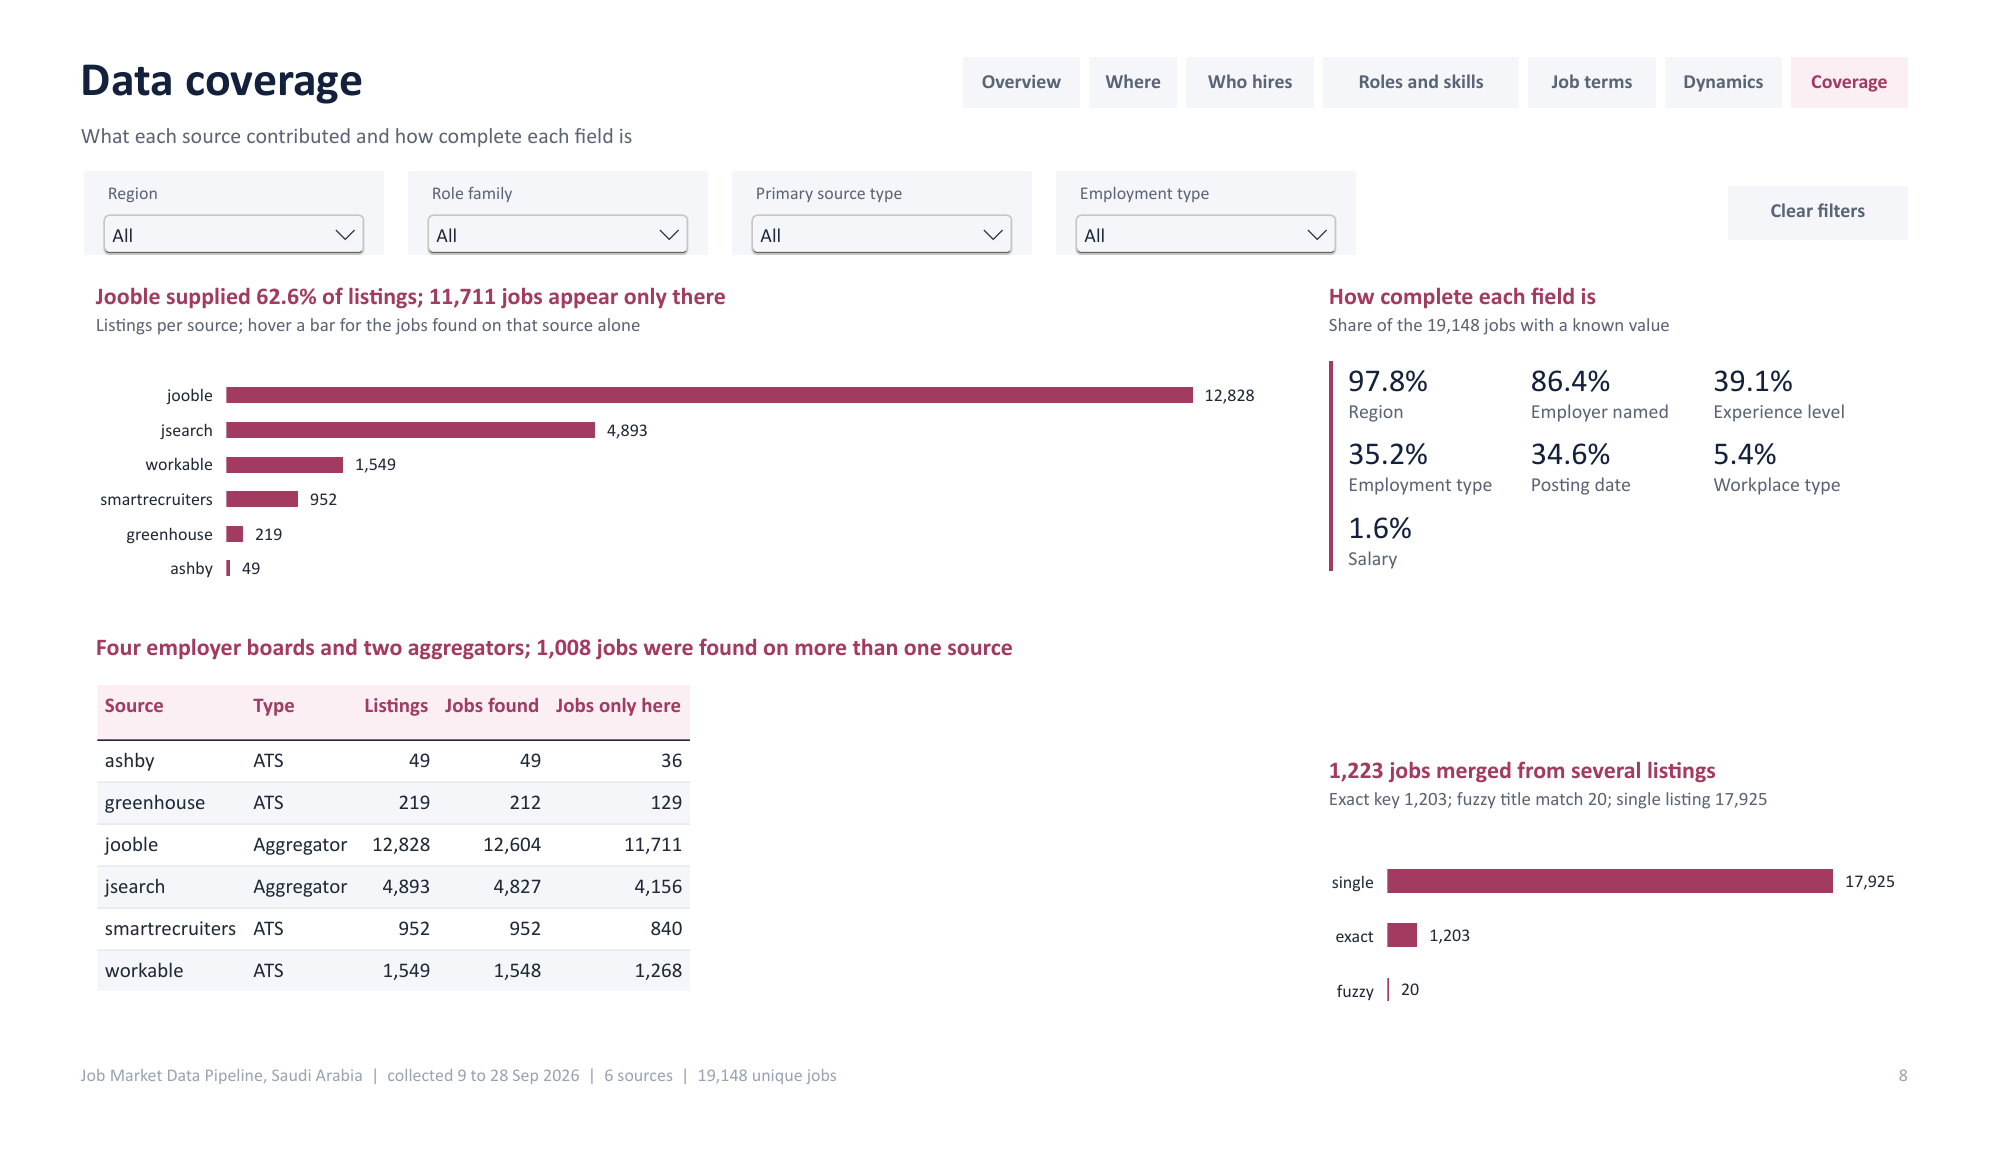

What the dashboard file says about the page in this screenshot:
{"tool":"powerbi","page":{"name":"Coverage","canvas":[1280,720],"ordinal":7},"visuals":[{"type":"textbox","box":[22,2,660,60],"z":1000},{"type":"textbox","box":[22,50,760,36],"z":1100},{"type":"textbox","box":[618,14,78,34],"z":1200},{"type":"actionButton","box":[618,14,78,34],"z":1300},{"type":"textbox","box":[702,14,59,34],"z":1400},{"type":"actionButton","box":[702,14,59,34],"z":1500},{"type":"textbox","box":[767,14,85,34],"z":1600},{"type":"actionButton","box":[767,14,85,34],"z":1700},{"type":"textbox","box":[858,14,131,34],"z":1800},{"type":"actionButton","box":[858,14,131,34],"z":1900},{"type":"textbox","box":[995,14,85,34],"z":2000},{"type":"actionButton","box":[995,14,85,34],"z":2100},{"type":"textbox","box":[1086,14,78,34],"z":2200},{"type":"actionButton","box":[1086,14,78,34],"z":2300},{"type":"textbox","box":[1170,14,78,34],"z":2400},{"type":"slicer","fields":{"Values":["DIM_LOCATION.REGION"]},"box":[32,90,200,56],"z":2500},{"type":"slicer","fields":{"Values":["DIM_ROLE.ROLE_FAMILY"]},"box":[248,90,200,56],"z":2600},{"type":"slicer","fields":{"Values":["DIM_SOURCE.SOURCE_TYPE"]},"box":[464,90,200,56],"z":2700},{"type":"slicer","fields":{"Values":["DIM_JOB_ATTRIBUTES.EMPLOYMENT_TYPE"]},"box":[680,90,200,56],"z":2800},{"type":"textbox","box":[1128,100,120,36],"z":2900},{"type":"actionButton","box":[1128,100,120,36],"z":3000},{"type":"textbox","box":[22,678,940,38],"z":3100},{"type":"textbox","box":[1160,678,96,38],"z":3200},{"type":"clusteredBarChart","title":"Jooble supplied 62.6% of listings; 11,711 jobs appear only there","fields":{"Category":["DIM_SOURCE.SOURCE_NAME"],"Y":["_Measures.Listings by Source"]},"box":[32,156,806,222],"z":3300},{"type":"tableEx","title":"Four employer boards and two aggregators; 1,008 jobs were found on more than one source","fields":{"Values":["DIM_SOURCE.SOURCE_NAME","DIM_SOURCE.SOURCE_TYPE","_Measures.Listings by Source","_Measures.Jobs Found on Source","_Measures.Jobs Only on Source"]},"box":[32,390,806,278],"z":3400},{"type":"multiRowCard","title":"How complete each field is","fields":{"Values":["_Measures.Region Known %","_Measures.Company Known %","_Measures.Experience Level Known %","_Measures.Employment Type Known %","_Measures.Posting Date Known %","_Measures.Workplace Type Known %","_Measures.Salary Disclosed %"]},"box":[854,156,394,300],"z":3500},{"type":"clusteredBarChart","title":"1,223 jobs merged from several listings","fields":{"Category":["FCT_JOBS.MATCH_TIER"],"Y":["_Measures.Jobs"]},"box":[854,472,394,196],"z":3600}]}

Visuals, with their boxes in screenshot pixels (x1, y1, x2, y2), scaled from the page's 1280x720 canvas onto the 1992x1152 screenshot:
textbox: (x1=34, y1=3, x2=1061, y2=99)
textbox: (x1=34, y1=80, x2=1217, y2=138)
textbox: (x1=962, y1=22, x2=1083, y2=77)
actionButton: (x1=962, y1=22, x2=1083, y2=77)
textbox: (x1=1092, y1=22, x2=1184, y2=77)
actionButton: (x1=1092, y1=22, x2=1184, y2=77)
textbox: (x1=1194, y1=22, x2=1326, y2=77)
actionButton: (x1=1194, y1=22, x2=1326, y2=77)
textbox: (x1=1335, y1=22, x2=1539, y2=77)
actionButton: (x1=1335, y1=22, x2=1539, y2=77)
textbox: (x1=1548, y1=22, x2=1681, y2=77)
actionButton: (x1=1548, y1=22, x2=1681, y2=77)
textbox: (x1=1690, y1=22, x2=1811, y2=77)
actionButton: (x1=1690, y1=22, x2=1811, y2=77)
textbox: (x1=1821, y1=22, x2=1942, y2=77)
slicer - DIM_LOCATION.REGION: (x1=50, y1=144, x2=361, y2=234)
slicer - DIM_ROLE.ROLE_FAMILY: (x1=386, y1=144, x2=697, y2=234)
slicer - DIM_SOURCE.SOURCE_TYPE: (x1=722, y1=144, x2=1033, y2=234)
slicer - DIM_JOB_ATTRIBUTES.EMPLOYMENT_TYPE: (x1=1058, y1=144, x2=1370, y2=234)
textbox: (x1=1755, y1=160, x2=1942, y2=218)
actionButton: (x1=1755, y1=160, x2=1942, y2=218)
textbox: (x1=34, y1=1085, x2=1497, y2=1146)
textbox: (x1=1805, y1=1085, x2=1955, y2=1146)
"Jooble supplied 62.6% of listings; 11,711 jobs appear only there" clusteredBarChart: (x1=50, y1=250, x2=1304, y2=605)
"Four employer boards and two aggregators; 1,008 jobs were found on more than one source" tableEx: (x1=50, y1=624, x2=1304, y2=1069)
"How complete each field is" multiRowCard: (x1=1329, y1=250, x2=1942, y2=730)
"1,223 jobs merged from several listings" clusteredBarChart: (x1=1329, y1=755, x2=1942, y2=1069)
